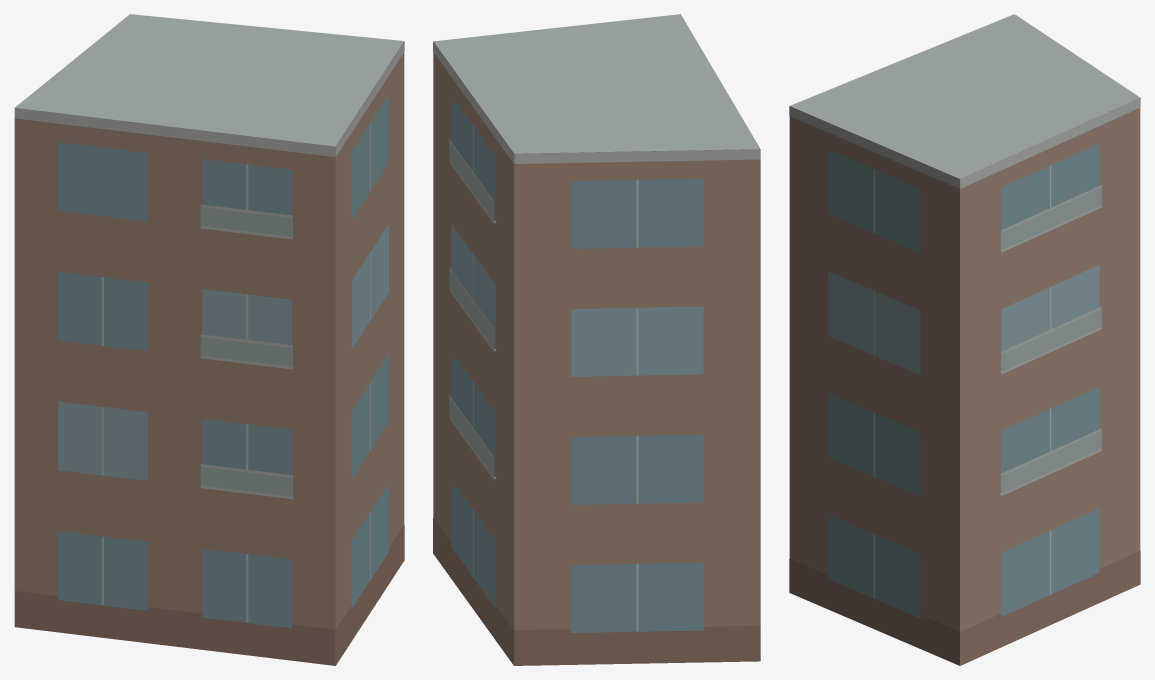
File: survey-upis-32730445.glb
3 views of the same model, side by side, from view 1: azimuth 30°, elevation 25°; view 2: azimuth 150°, elevation 25°; view 3: azimuth 270°, elevation 25° (orthographic). The views are drawn at different scales.
Parts seen in each view (by area): view 1: survey-upis-32730445.tmp; view 2: survey-upis-32730445.tmp; view 3: survey-upis-32730445.tmp.
Part boxes in pixels (<box>): survey-upis-32730445.tmp: <box>14,14,404,665</box>; survey-upis-32730445.tmp: <box>433,14,760,665</box>; survey-upis-32730445.tmp: <box>789,14,1140,665</box>.
Bounding box in the file's own units: 8.73 × 12 × 7.85.
